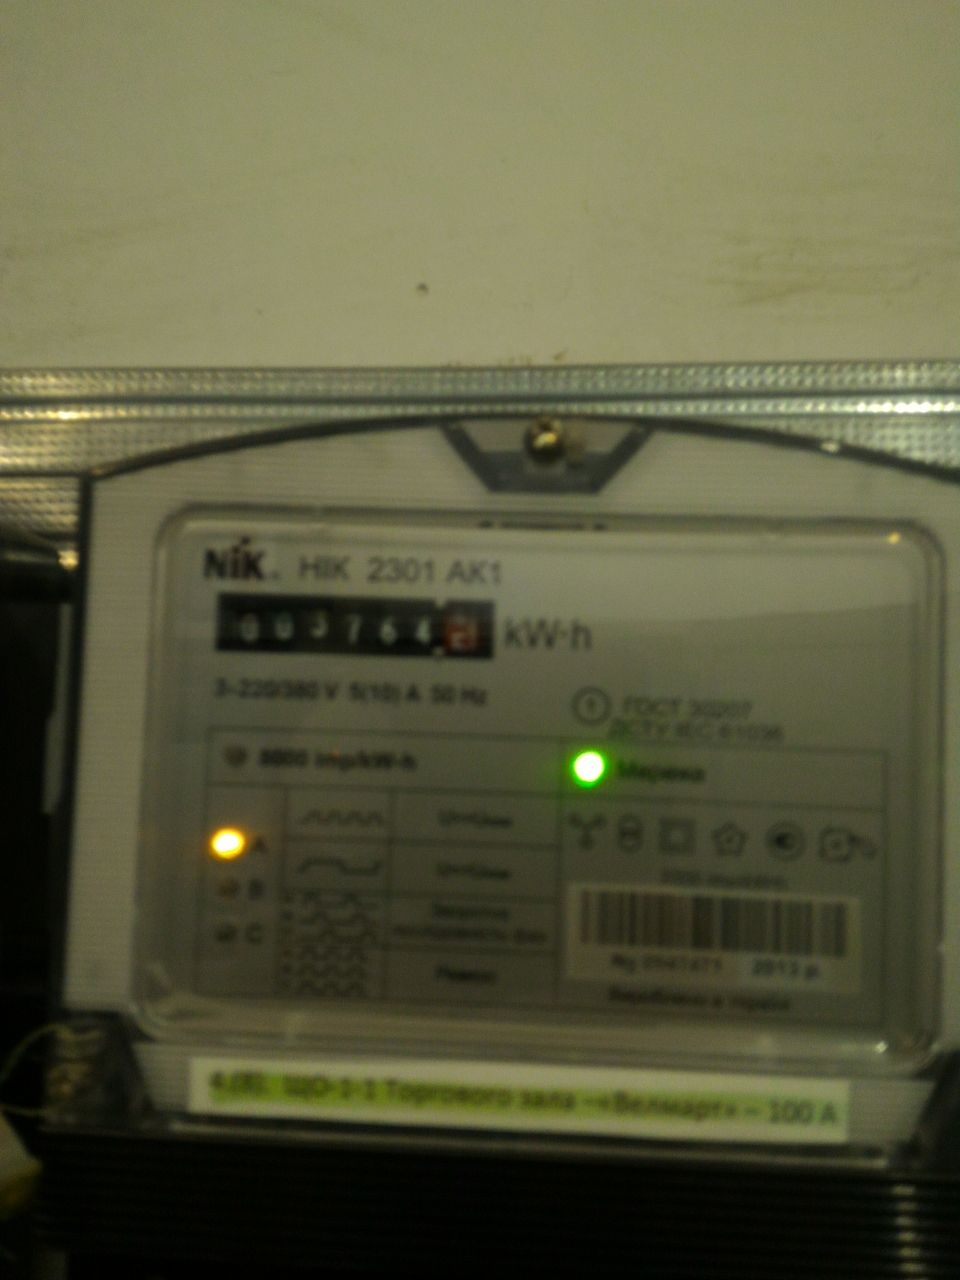0: (273, 605, 296, 643), (238, 607, 261, 643)
3: (307, 606, 331, 639)
4: (412, 614, 435, 647)
6: (376, 611, 401, 647)
7: (341, 609, 367, 646)
screen: (202, 579, 512, 671)
x: (446, 608, 473, 650)
